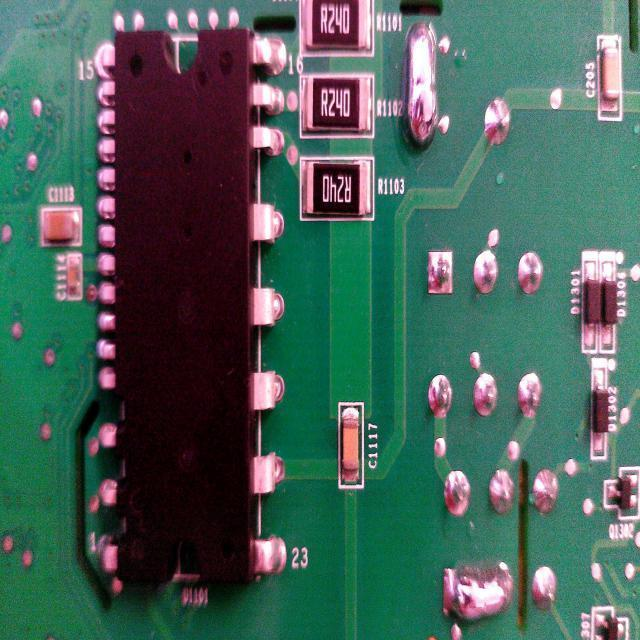Soldering shorted: (441, 558, 516, 632), (401, 22, 440, 154)
